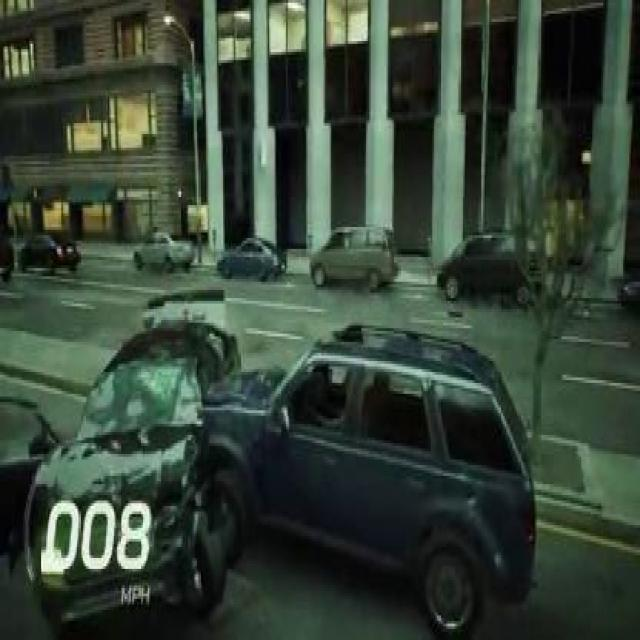accident: (0, 303, 538, 637)
